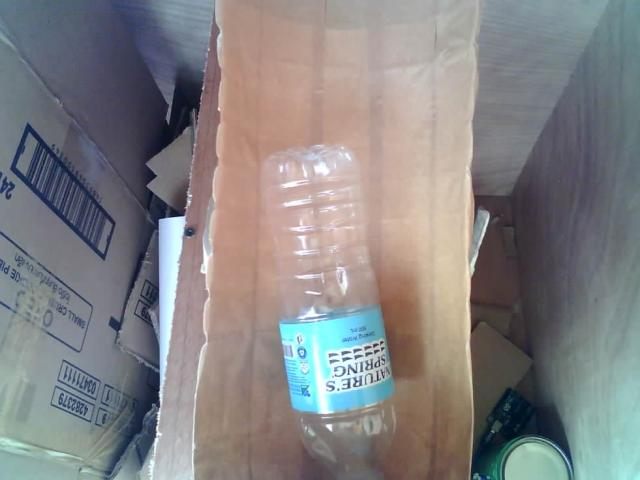small_bottle: (247, 136, 420, 480)
